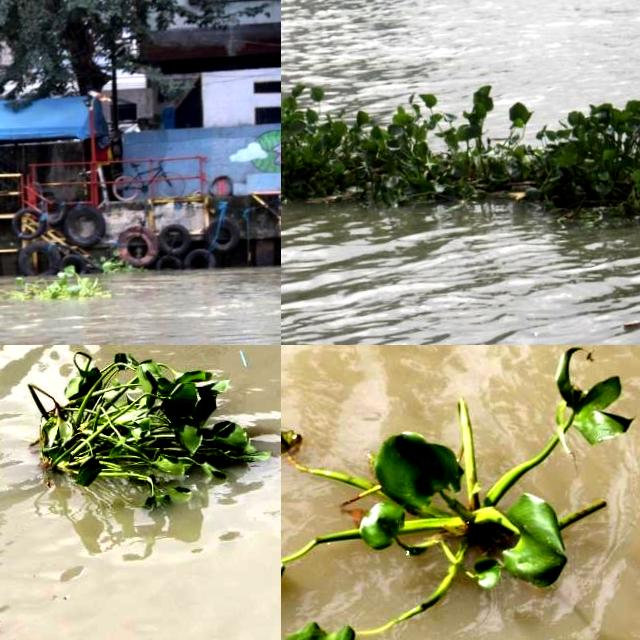water-hyacinth: (282, 349, 640, 640), (282, 73, 640, 248), (31, 346, 259, 515), (1, 268, 110, 303)
